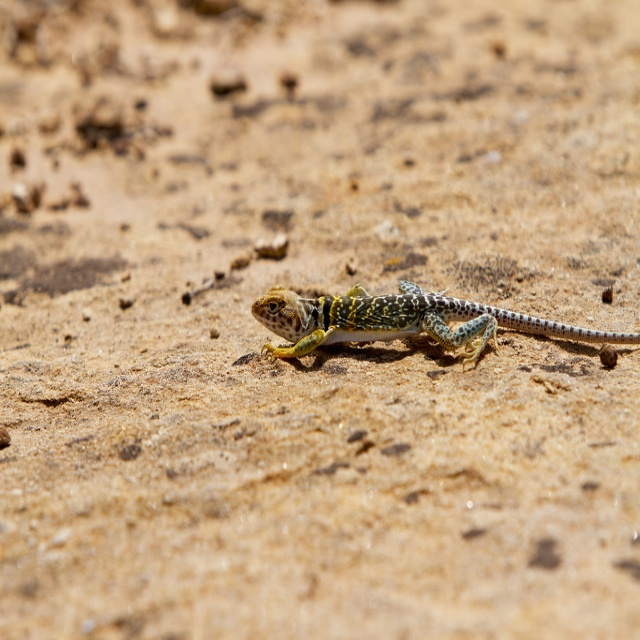Lizard: (249, 277, 639, 370)
